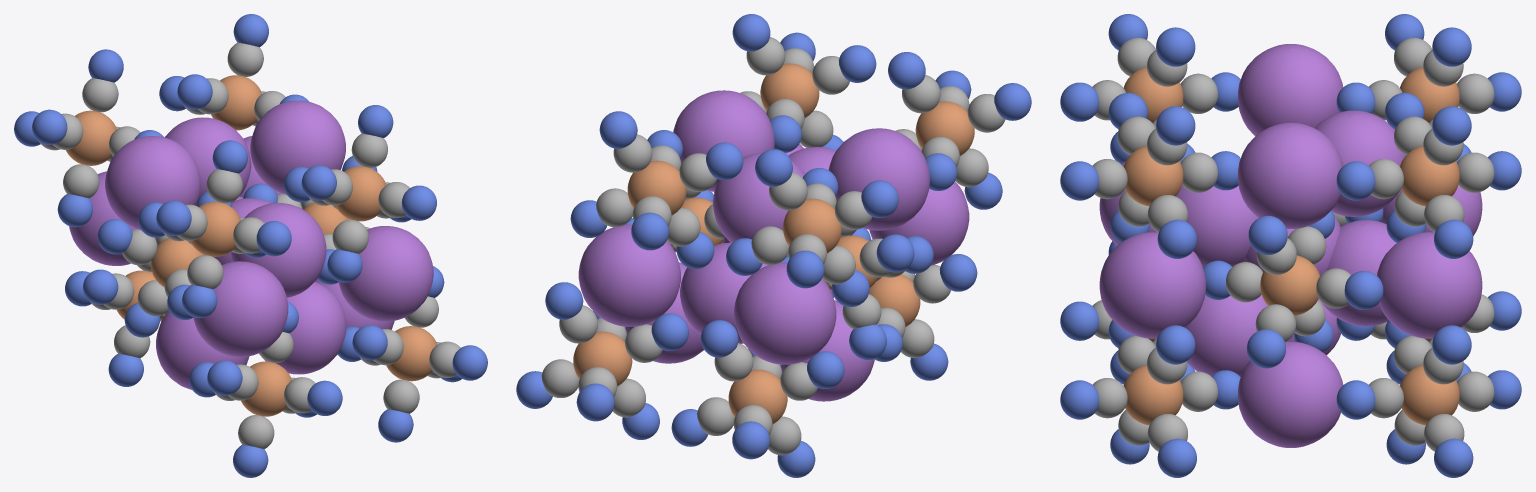
Rendered from Potassium-Ferricyanide_K3Fe(CN)6_mp-541627.fbx.
3 renders of one model, left to right at view 1: azimuth 30°, elevation 25°; view 2: azimuth 150°, elevation 25°; view 3: azimuth 270°, elevation 25°, orthographic. The views are drawn at different scales.
Visible parts, largest first — view 1: Potassium|Ball (NURBS)_Potassium|Dupli|4.0.0.0.0.0.0.0.0, Potassium|Ball (NURBS)_Potassium|Dupli|6.0.0.0.0.0.0.0.0, Potassium|Ball (NURBS)_Potassium|Dupli|11.0.0.0.0.0.0.0.0, Potassium|Ball (NURBS)_Potassium|Dupli|9.0.0.0.0.0.0.0.0, Potassium|Ball (NURBS)_Potassium|Dupli|3.0.0.0.0.0.0.0.0, Potassium|Ball (NURBS)_Potassium|Dupli|0.0.0.0.0.0.0.0.0, Potassium|Ball (NURBS)_Potassium|Dupli|8.0.0.0.0.0.0.0.0, Potassium|Ball (NURBS)_Potassium|Dupli|2.0.0.0.0.0.0.0.0, Potassium|Ball (NURBS)_Potassium|Dupli|5.0.0.0.0.0.0.0.0, Iron|Ball (NURBS)_Iron|Dupli|1.0.0.0.0.0.0.0.0, Iron|Ball (NURBS)_Iron|Dupli|4.0.0.0.0.0.0.0.0, Iron|Ball (NURBS)_Iron|Dupli|0.0.0.0.0.0.0.0.0 (+65 smaller); view 2: Potassium|Ball (NURBS)_Potassium|Dupli|7.0.0.0.0.0.0.0.0, Potassium|Ball (NURBS)_Potassium|Dupli|5.0.0.0.0.0.0.0.0, Potassium|Ball (NURBS)_Potassium|Dupli|9.0.0.0.0.0.0.0.0, Potassium|Ball (NURBS)_Potassium|Dupli|11.0.0.0.0.0.0.0.0, Potassium|Ball (NURBS)_Potassium|Dupli|2.0.0.0.0.0.0.0.0, Potassium|Ball (NURBS)_Potassium|Dupli|1.0.0.0.0.0.0.0.0, Potassium|Ball (NURBS)_Potassium|Dupli|4.0.0.0.0.0.0.0.0, Potassium|Ball (NURBS)_Potassium|Dupli|8.0.0.0.0.0.0.0.0, Iron|Ball (NURBS)_Iron|Dupli|7.0.0.0.0.0.0.0.0, Iron|Ball (NURBS)_Iron|Dupli|5.0.0.0.0.0.0.0.0, Iron|Ball (NURBS)_Iron|Dupli|2.0.0.0.0.0.0.0.0, Iron|Ball (NURBS)_Iron|Dupli|1.0.0.0.0.0.0.0.0 (+76 smaller); view 3: Potassium|Ball (NURBS)_Potassium|Dupli|11.0.0.0.0.0.0.0.0, Potassium|Ball (NURBS)_Potassium|Dupli|10.0.0.0.0.0.0.0.0, Potassium|Ball (NURBS)_Potassium|Dupli|6.0.0.0.0.0.0.0.0, Potassium|Ball (NURBS)_Potassium|Dupli|7.0.0.0.0.0.0.0.0, Potassium|Ball (NURBS)_Potassium|Dupli|9.0.0.0.0.0.0.0.0, Potassium|Ball (NURBS)_Potassium|Dupli|0.0.0.0.0.0.0.0.0, Potassium|Ball (NURBS)_Potassium|Dupli|3.0.0.0.0.0.0.0.0, Potassium|Ball (NURBS)_Potassium|Dupli|2.0.0.0.0.0.0.0.0, Potassium|Ball (NURBS)_Potassium|Dupli|1.0.0.0.0.0.0.0.0, Iron|Ball (NURBS)_Iron|Dupli|9.0.0.0.0.0.0.0.0, Iron|Ball (NURBS)_Iron|Dupli|6.0.0.0.0.0.0.0.0, Iron|Ball (NURBS)_Iron|Dupli|7.0.0.0.0.0.0.0.0 (+84 smaller).
Part boxes in pixels (x1,y1,x2,y2): Potassium|Ball (NURBS)_Potassium|Dupli|4.0.0.0.0.0.0.0.0: [193, 261, 288, 356]; Potassium|Ball (NURBS)_Potassium|Dupli|6.0.0.0.0.0.0.0.0: [338, 226, 433, 321]; Potassium|Ball (NURBS)_Potassium|Dupli|11.0.0.0.0.0.0.0.0: [250, 100, 345, 194]; Potassium|Ball (NURBS)_Potassium|Dupli|9.0.0.0.0.0.0.0.0: [105, 136, 200, 229]; Potassium|Ball (NURBS)_Potassium|Dupli|3.0.0.0.0.0.0.0.0: [230, 203, 326, 297]; Potassium|Ball (NURBS)_Potassium|Dupli|0.0.0.0.0.0.0.0.0: [259, 282, 346, 374]; Potassium|Ball (NURBS)_Potassium|Dupli|8.0.0.0.0.0.0.0.0: [156, 311, 249, 389]; Potassium|Ball (NURBS)_Potassium|Dupli|2.0.0.0.0.0.0.0.0: [165, 117, 251, 205]; Potassium|Ball (NURBS)_Potassium|Dupli|5.0.0.0.0.0.0.0.0: [69, 171, 155, 265]; Iron|Ball (NURBS)_Iron|Dupli|1.0.0.0.0.0.0.0.0: [190, 201, 240, 256]; Iron|Ball (NURBS)_Iron|Dupli|4.0.0.0.0.0.0.0.0: [386, 326, 436, 381]; Iron|Ball (NURBS)_Iron|Dupli|0.0.0.0.0.0.0.0.0: [241, 361, 291, 416]; Potassium|Ball (NURBS)_Potassium|Dupli|7.0.0.0.0.0.0.0.0: [578, 224, 680, 326]; Potassium|Ball (NURBS)_Potassium|Dupli|5.0.0.0.0.0.0.0.0: [734, 262, 836, 364]; Potassium|Ball (NURBS)_Potassium|Dupli|9.0.0.0.0.0.0.0.0: [828, 128, 929, 230]; Potassium|Ball (NURBS)_Potassium|Dupli|11.0.0.0.0.0.0.0.0: [673, 90, 774, 191]; Potassium|Ball (NURBS)_Potassium|Dupli|2.0.0.0.0.0.0.0.0: [713, 153, 804, 243]; Potassium|Ball (NURBS)_Potassium|Dupli|1.0.0.0.0.0.0.0.0: [680, 242, 768, 343]; Potassium|Ball (NURBS)_Potassium|Dupli|4.0.0.0.0.0.0.0.0: [869, 181, 969, 265]; Potassium|Ball (NURBS)_Potassium|Dupli|8.0.0.0.0.0.0.0.0: [781, 300, 874, 401]; Iron|Ball (NURBS)_Iron|Dupli|7.0.0.0.0.0.0.0.0: [627, 160, 686, 215]; Iron|Ball (NURBS)_Iron|Dupli|5.0.0.0.0.0.0.0.0: [760, 63, 819, 117]; Iron|Ball (NURBS)_Iron|Dupli|2.0.0.0.0.0.0.0.0: [728, 369, 787, 424]; Iron|Ball (NURBS)_Iron|Dupli|1.0.0.0.0.0.0.0.0: [915, 101, 974, 155]; Potassium|Ball (NURBS)_Potassium|Dupli|11.0.0.0.0.0.0.0.0: [1238, 122, 1343, 228]; Potassium|Ball (NURBS)_Potassium|Dupli|10.0.0.0.0.0.0.0.0: [1238, 341, 1343, 447]; Potassium|Ball (NURBS)_Potassium|Dupli|6.0.0.0.0.0.0.0.0: [1099, 232, 1205, 338]; Potassium|Ball (NURBS)_Potassium|Dupli|7.0.0.0.0.0.0.0.0: [1377, 232, 1482, 338]; Potassium|Ball (NURBS)_Potassium|Dupli|9.0.0.0.0.0.0.0.0: [1238, 44, 1343, 136]; Potassium|Ball (NURBS)_Potassium|Dupli|0.0.0.0.0.0.0.0.0: [1185, 295, 1267, 376]; Potassium|Ball (NURBS)_Potassium|Dupli|3.0.0.0.0.0.0.0.0: [1175, 185, 1258, 267]; Potassium|Ball (NURBS)_Potassium|Dupli|2.0.0.0.0.0.0.0.0: [1315, 110, 1405, 216]; Potassium|Ball (NURBS)_Potassium|Dupli|1.0.0.0.0.0.0.0.0: [1321, 220, 1396, 326]; Iron|Ball (NURBS)_Iron|Dupli|9.0.0.0.0.0.0.0.0: [1260, 255, 1319, 315]; Iron|Ball (NURBS)_Iron|Dupli|6.0.0.0.0.0.0.0.0: [1400, 365, 1459, 425]; Iron|Ball (NURBS)_Iron|Dupli|7.0.0.0.0.0.0.0.0: [1400, 146, 1459, 206].
Bounding box in the file's own units: 1619 × 1493 × 1759.
